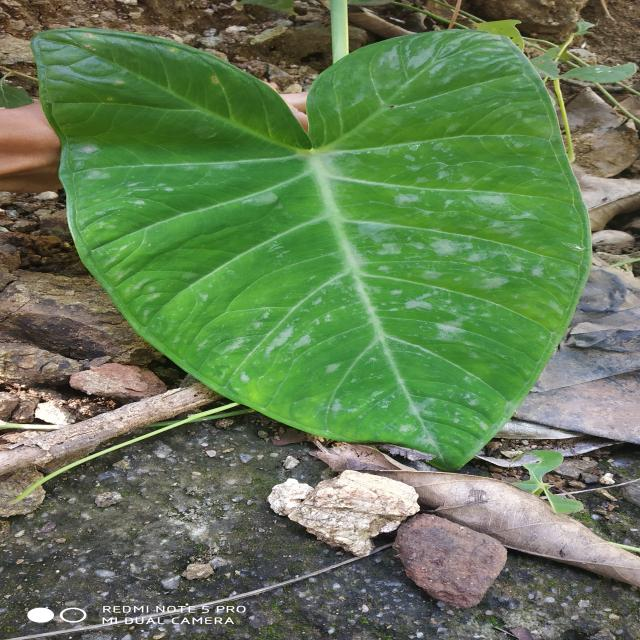defectedtaro: (356, 188, 587, 409)
taro: (33, 29, 589, 470)
